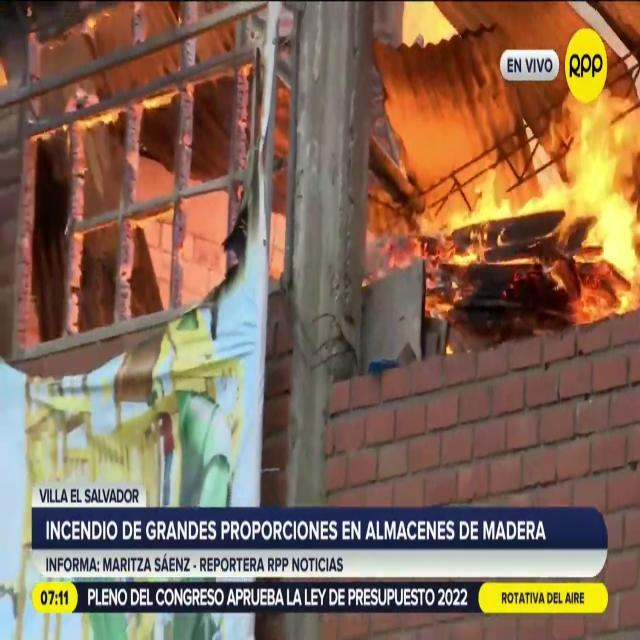Fire: (359, 0, 640, 324)
